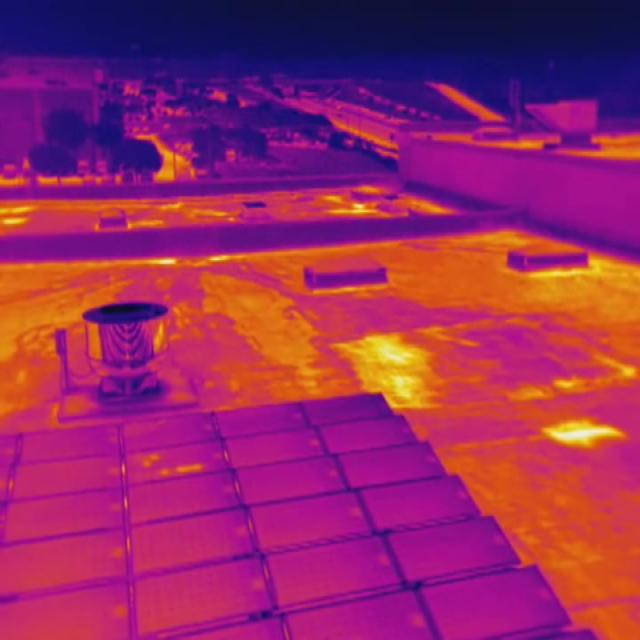Orange-Spots: (142, 452, 160, 468), (175, 464, 203, 474), (161, 466, 171, 479)
